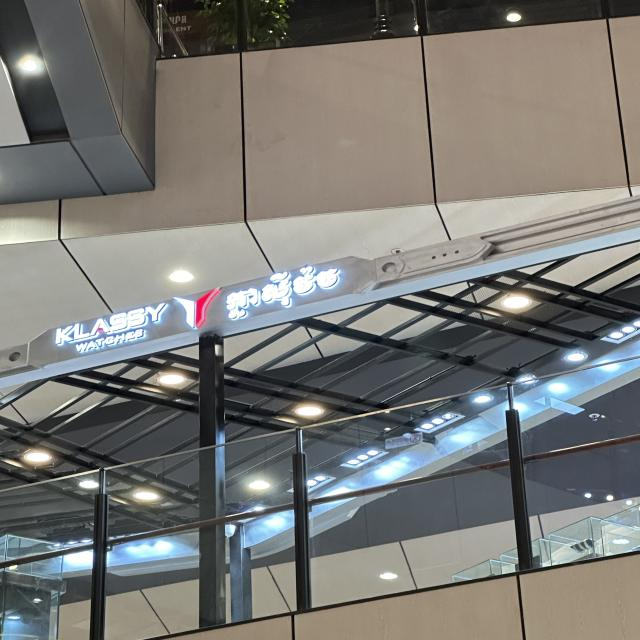Yolov11kh: (217, 259, 348, 324)
